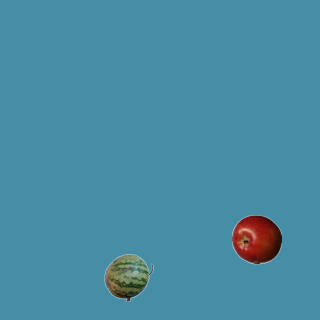Apple Braeburn: (231, 214, 281, 264)
Watermelon: (103, 252, 153, 302)
